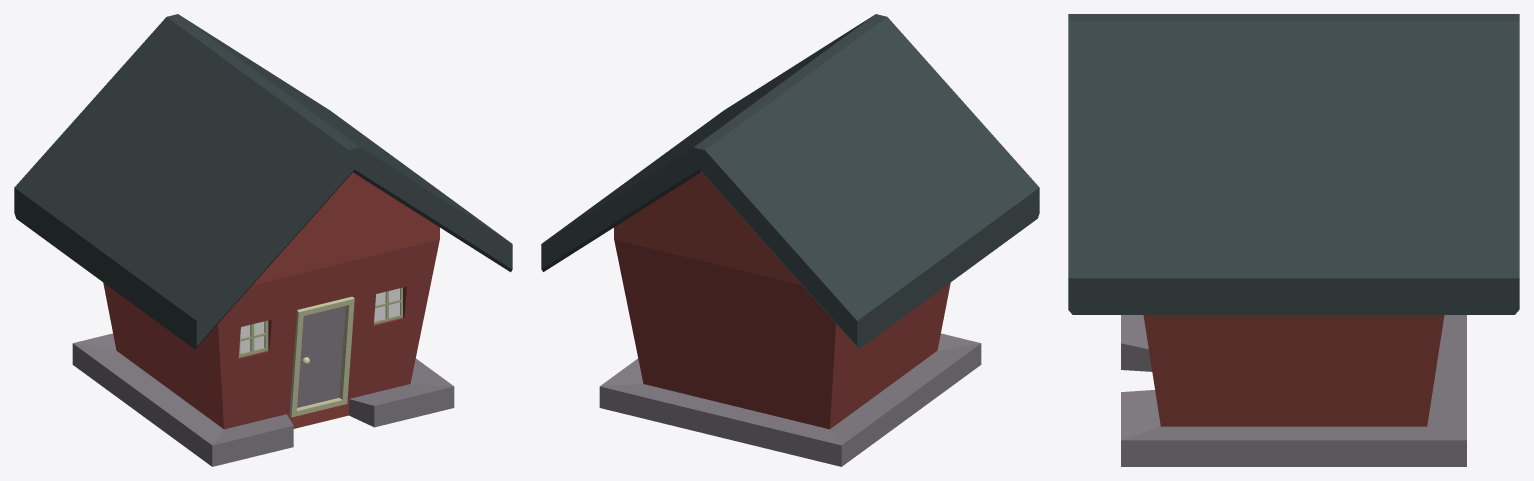
File: HOUSE 1 (RED).fbx
3 views of the same model, side by side, from view 1: azimuth 30°, elevation 25°; view 2: azimuth 150°, elevation 25°; view 3: azimuth 270°, elevation 25° (orthographic). The views are drawn at different scales.
Visible parts, largest first — view 1: Roof, House, Door, Front Windows; view 2: Roof, House; view 3: Roof, House.
Boxes of the visible parts, left/top/right/bottom form: Roof: left=14, top=14, right=512, bottom=349; House: left=72, top=172, right=454, bottom=466; Door: left=289, top=296, right=354, bottom=417; Front Windows: left=238, top=287, right=402, bottom=357; Roof: left=541, top=14, right=1039, bottom=349; House: left=599, top=172, right=981, bottom=466; Roof: left=1068, top=14, right=1519, bottom=314; House: left=1121, top=315, right=1466, bottom=466.
Size of the model in its own units: 1130 by 1040 by 1130.
